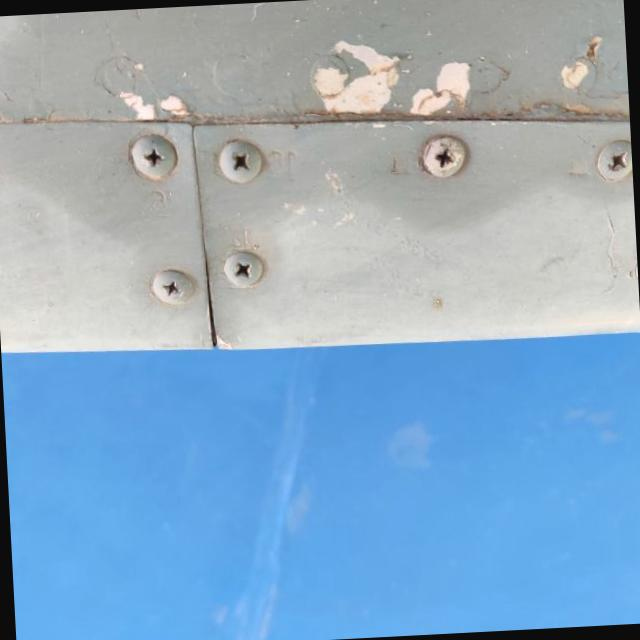paint-off: (4, 150, 146, 343), (66, 429, 156, 527), (29, 24, 96, 94)
